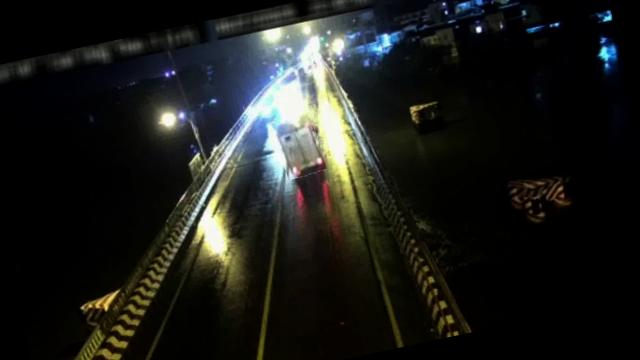Truck: (271, 110, 326, 180)
